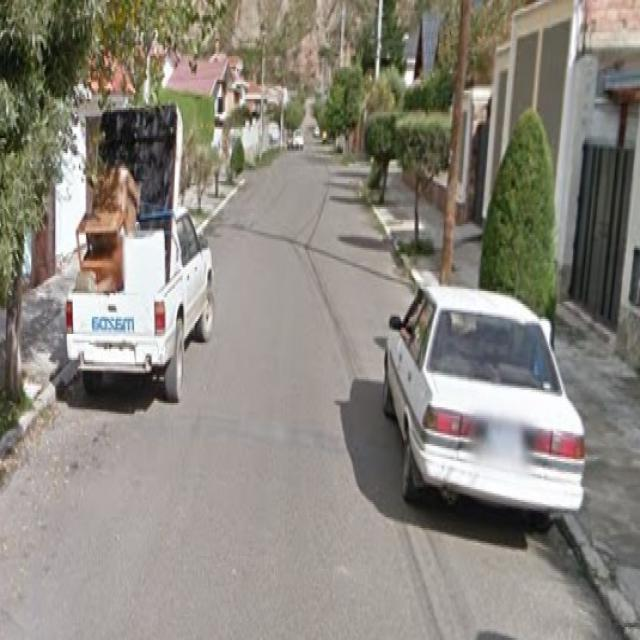car: (50, 94, 219, 426), (382, 283, 587, 526)
